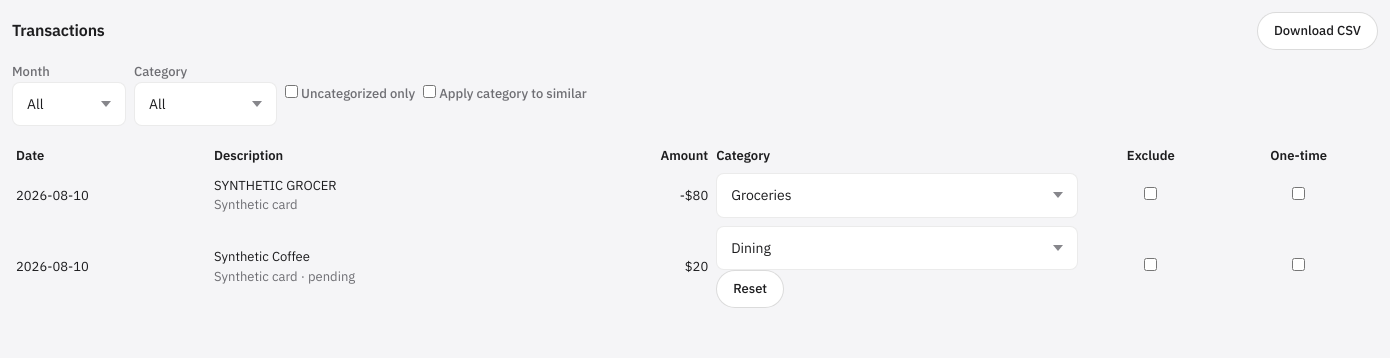
Test: keeps the row and reports a failed save
expect the text "SYNTHETIC GROCER" is shown: met, box x1=214 y1=177 x2=337 y2=194
Click the checkbox named "One-time SYNTHETIC GROCER".
click(1299, 193)  # box x1=1292 y1=187 x2=1305 y2=200
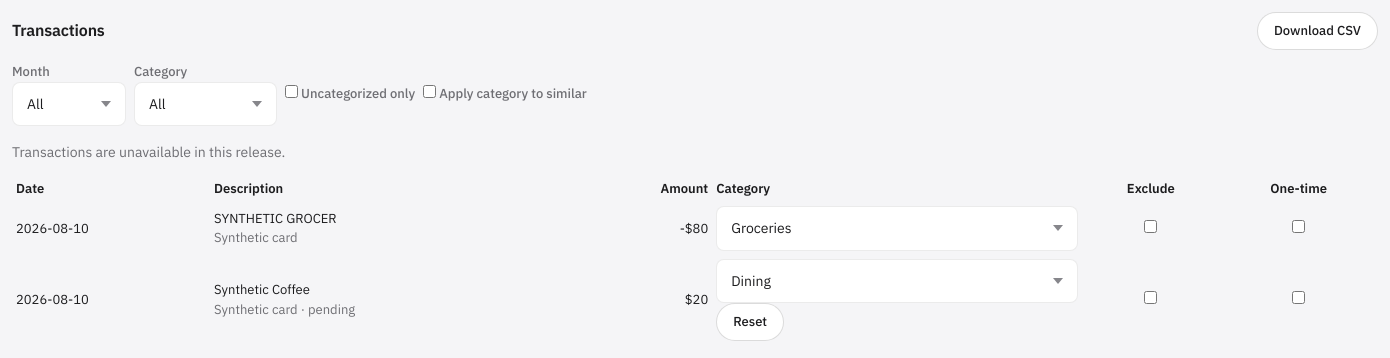
expect the message shows "unavailable in this release": met, box x1=12 y1=143 x2=285 y2=161
